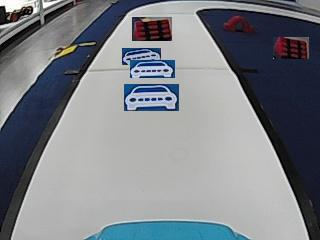bridge: (223, 16, 253, 32)
